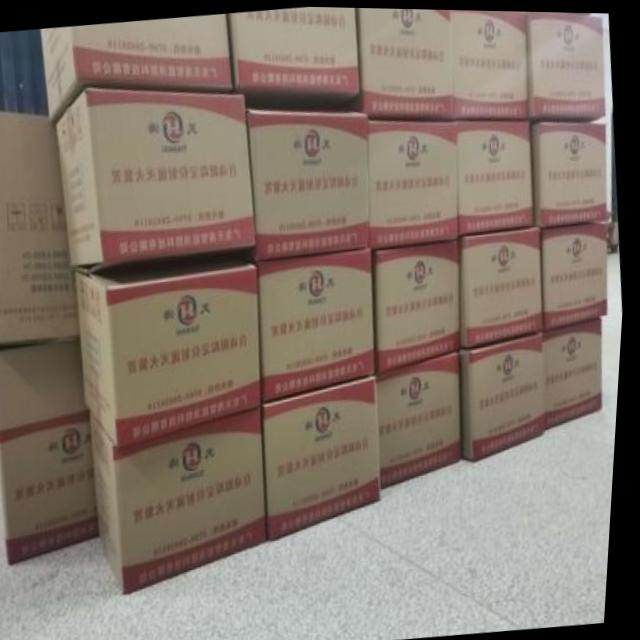box: (77, 251, 267, 445), (57, 86, 259, 266), (91, 405, 273, 595), (0, 341, 104, 564), (41, 12, 233, 122), (267, 375, 387, 541), (0, 112, 82, 348), (249, 107, 372, 260), (263, 245, 380, 401), (229, 5, 358, 106), (375, 236, 466, 369), (381, 349, 467, 488), (369, 117, 462, 245), (465, 331, 550, 460), (357, 6, 456, 116), (460, 224, 547, 345), (456, 117, 537, 232), (527, 9, 607, 119), (451, 8, 531, 115), (532, 118, 610, 225), (545, 218, 611, 327), (548, 314, 607, 426)
